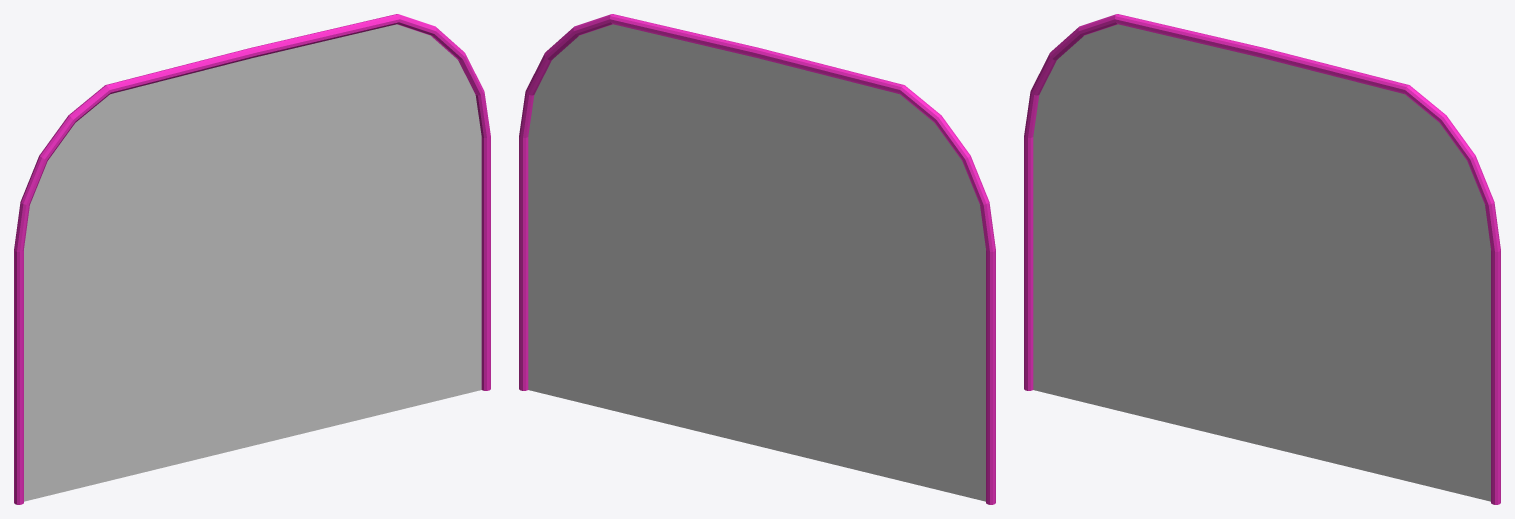
Rendered from gate-big.fbx.
3 views of the same model, side by side, from view 1: azimuth 30°, elevation 25°; view 2: azimuth 150°, elevation 25°; view 3: azimuth 330°, elevation 25° (orthographic).
Parts seen in each view (by area): view 1: gate1; view 2: gate1; view 3: gate1.
Part boxes in pixels (left/top/right/bottom): gate1: left=14, top=14, right=490, bottom=504; gate1: left=519, top=14, right=995, bottom=504; gate1: left=1024, top=14, right=1500, bottom=504.
Bounding box in the file's own units: 555 × 444 × 9.51.
